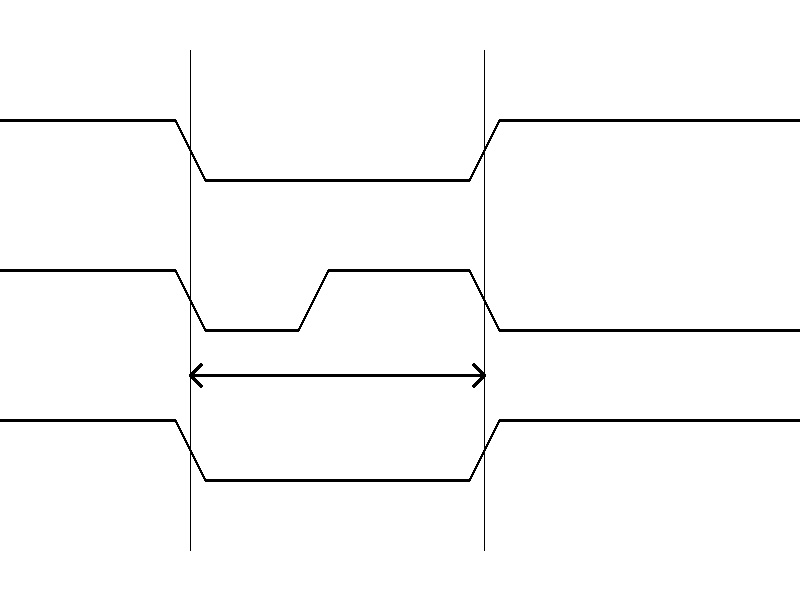double_arrow: (190, 360, 484, 390)
